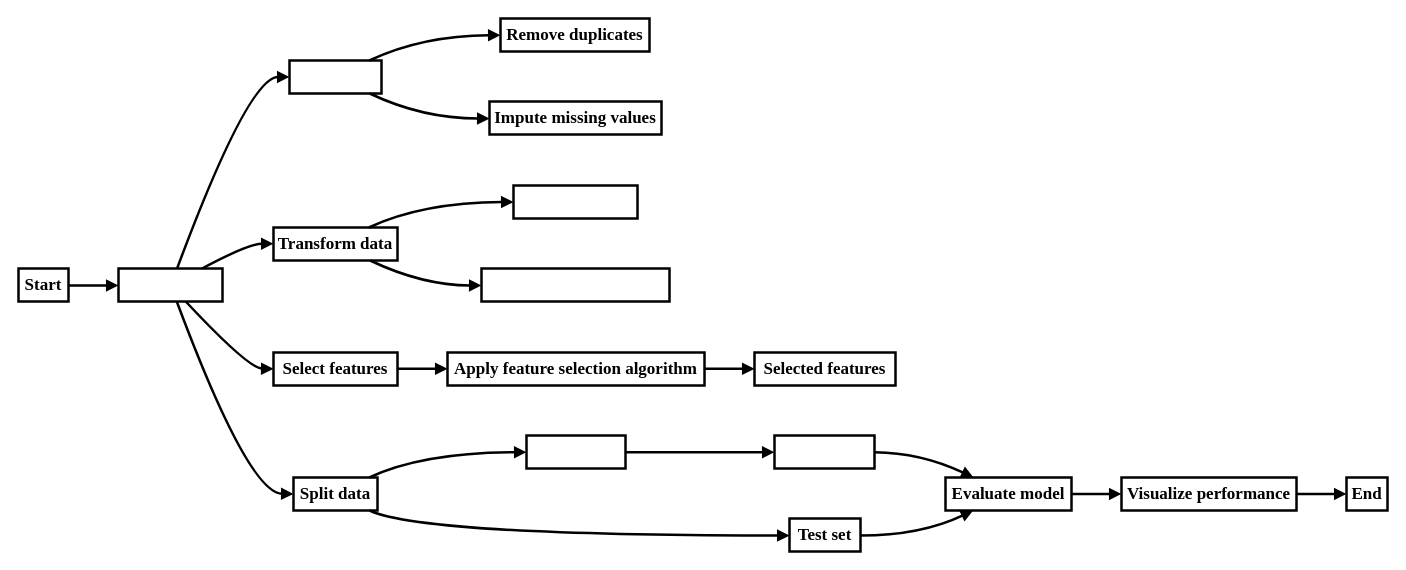
Some shapes in this 1406 by 570 pixel diagram are drawn without their labels. Each missing label, with the centre of its shape:
Clean data: pixel 335 76
Encode categorical data: pixel 575 284
Normalize data: pixel 575 201
Process data: pixel 170 284
Train model: pixel 824 451
Training set: pixel 575 451
